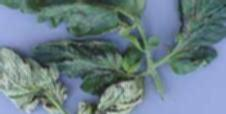Tomato leaf bacterial spot: (0, 0, 150, 40), (0, 43, 64, 112), (165, 0, 226, 70), (93, 78, 147, 114)
